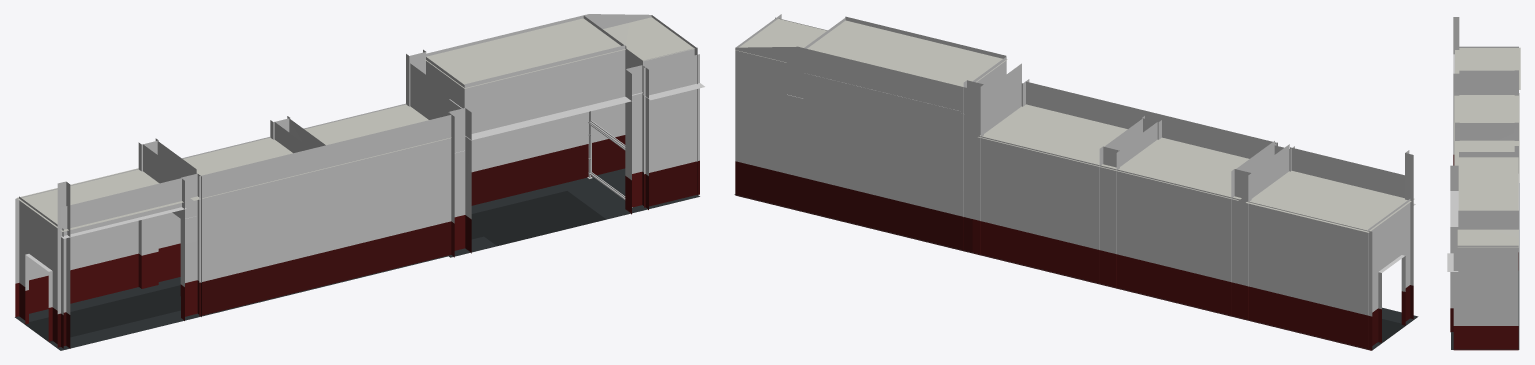
The model's file is SM_H_Building_Tide_InterrogationRoom_10_ATLAS.fbx.
The picture shows the model from 3 angles, left to right: view 1: azimuth 30°, elevation 25°; view 2: azimuth 150°, elevation 25°; view 3: azimuth 270°, elevation 25°; orthographic projection. The views are drawn at different scales.
Parts seen in each view (by area): view 1: SM_H_Building_Tide_InterrogationRoom_10_ATLAS; view 2: SM_H_Building_Tide_InterrogationRoom_10_ATLAS; view 3: SM_H_Building_Tide_InterrogationRoom_10_ATLAS.
Boxes of the visible parts, <box> form: SM_H_Building_Tide_InterrogationRoom_10_ATLAS: <box>15,14,704,350</box>; SM_H_Building_Tide_InterrogationRoom_10_ATLAS: <box>734,14,1418,350</box>; SM_H_Building_Tide_InterrogationRoom_10_ATLAS: <box>1447,17,1520,350</box>.
Size of the model in its own units: 2517 by 353 by 634.
